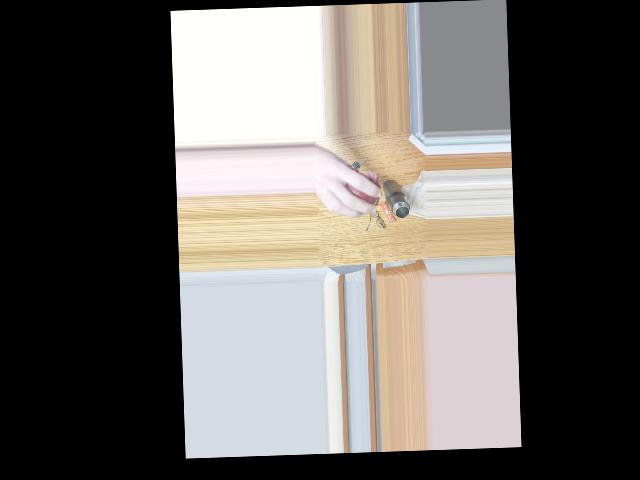onion: (337, 167, 373, 209)
